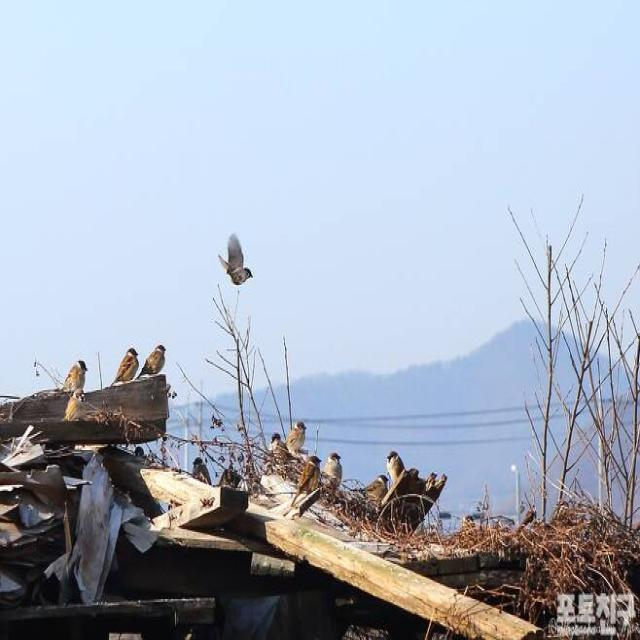bird: (216, 234, 260, 290), (284, 455, 328, 509), (358, 467, 394, 516), (317, 448, 347, 499), (140, 340, 170, 382), (59, 358, 88, 399), (113, 346, 142, 387), (265, 434, 293, 471), (284, 419, 309, 458), (385, 448, 409, 485)
